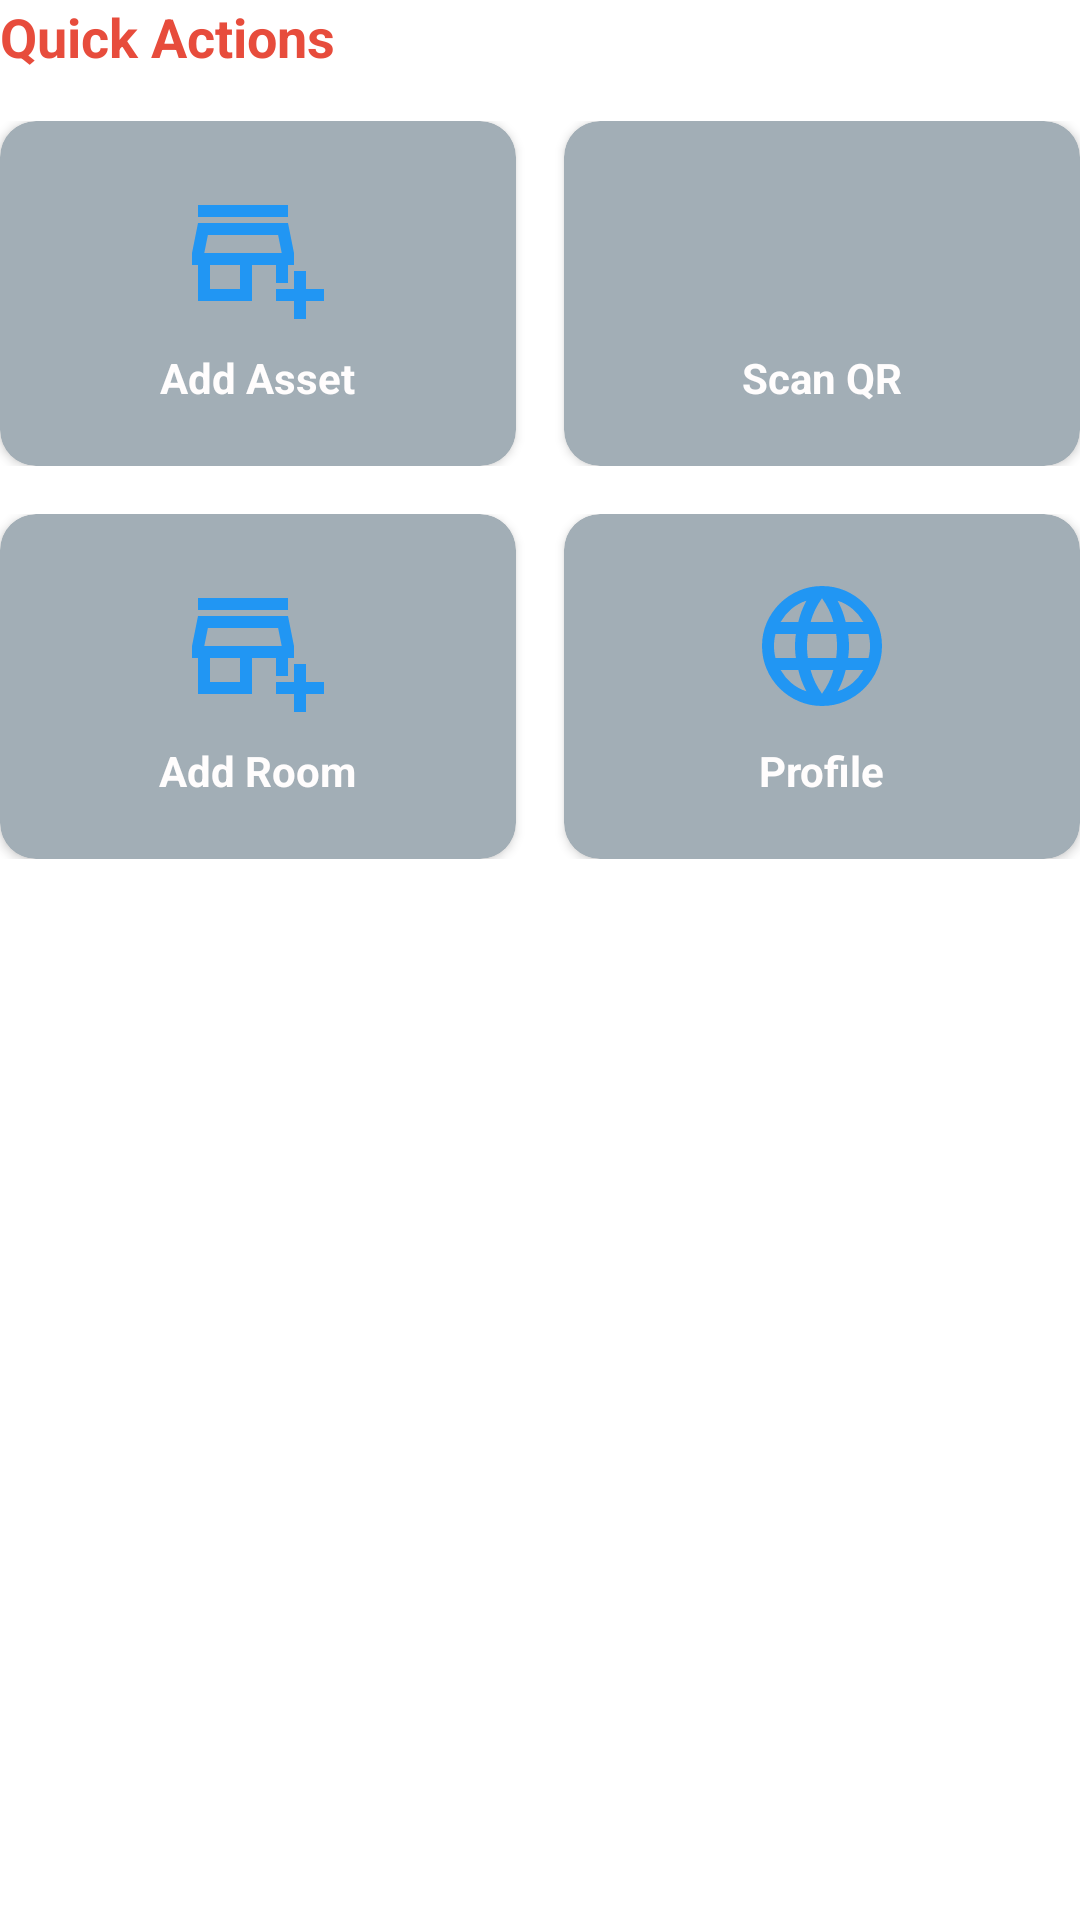

Named icons in this screenshot (1080w x 1920h) and their bounding boxes, (x1, y1, x2, y2):
add business: (192, 205, 324, 319), (192, 598, 324, 712)
